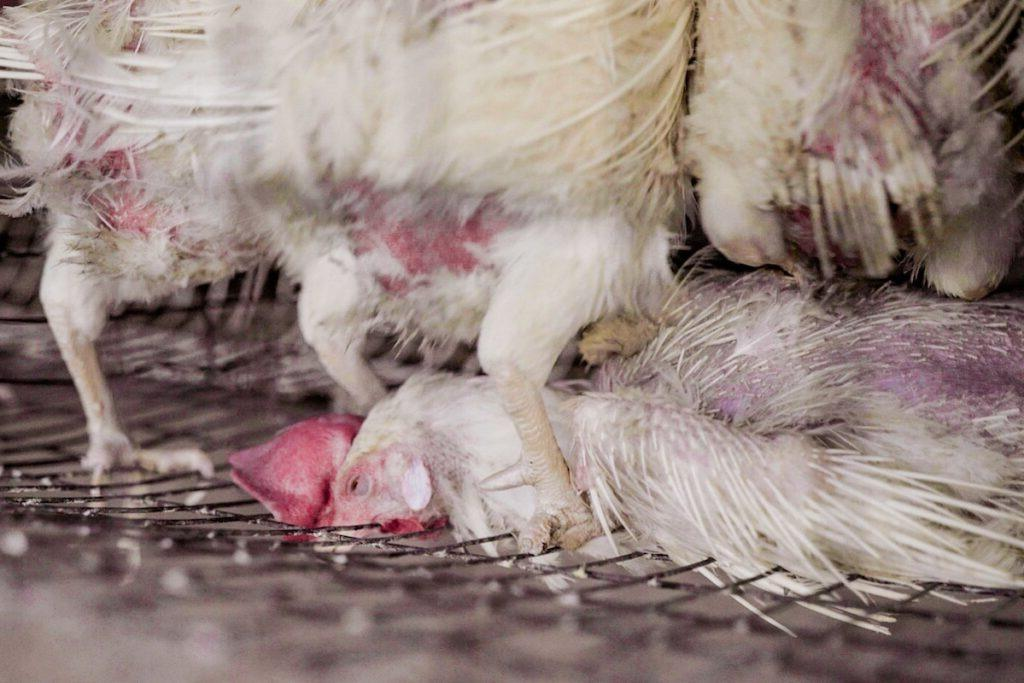AbNormal: (253, 238, 1024, 592)
